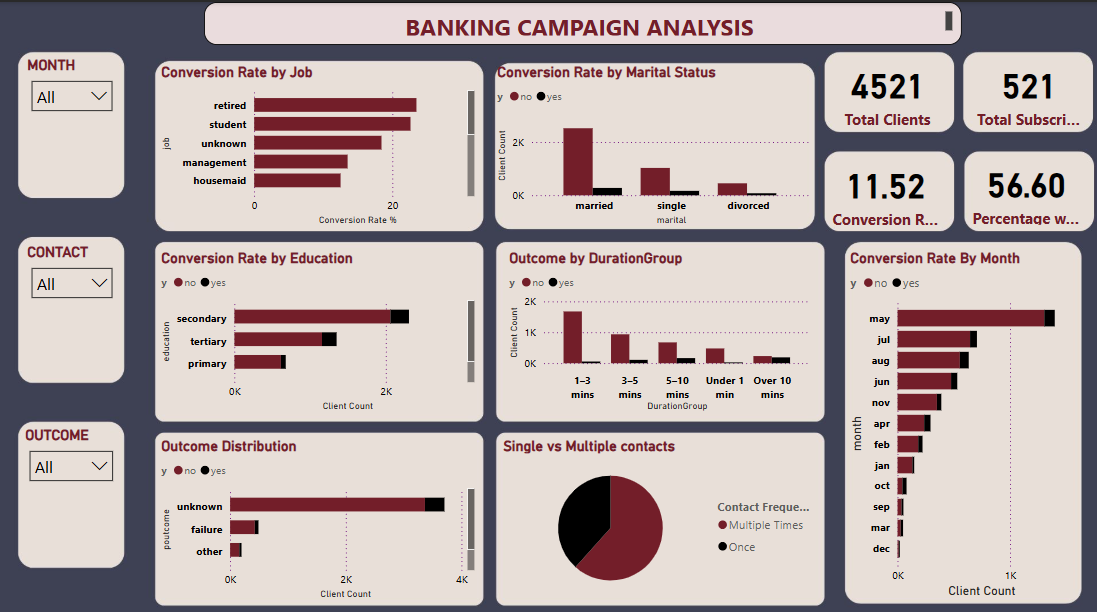

What the dashboard file says about the page in this screenshot:
{"tool":"powerbi","page":{"name":"Conversion","canvas":[1280,720],"ordinal":2},"visuals":[{"type":"card","fields":{"Values":["Banking_Campaign.Total Clients"]},"box":[965.2,60.4,133.6,90.6],"z":0},{"type":"card","fields":{"Values":["Banking_Campaign.Total Subscribed"]},"box":[1129,60.4,133.6,90.6],"z":1000},{"type":"card","fields":{"Values":["Banking_Campaign.Conversion Rate %"]},"box":[960.6,171.9,138.2,99.9],"z":2000},{"type":"card","fields":{"Values":["Banking_Campaign.Percentage with Housing Loan"]},"box":[1123.2,178.9,139.4,84.8],"z":3000},{"type":"barChart","title":"Conversion Rate By Month","fields":{"Y":["Banking_Campaign.Client Count"],"Category":["Banking_Campaign.month"],"Series":["Banking_Campaign.y"]},"box":[983.8,286.9,268.3,411.2],"z":4000},{"type":"barChart","title":"Conversion Rate by Job","fields":{"Y":["Banking_Campaign.Conversion Rate %"],"Category":["Banking_Campaign.job"]},"box":[182.4,70.9,374,192.8],"z":5000},{"type":"barChart","title":"Conversion Rate by Education","fields":{"Category":["Banking_Campaign.education"],"Y":["Banking_Campaign.Client Count"],"Series":["Banking_Campaign.y"]},"box":[182.4,286.9,374,192.8],"z":6000},{"type":"clusteredColumnChart","title":"Conversion Rate by Marital Status","fields":{"Category":["Banking_Campaign.marital"],"Series":["Banking_Campaign.y"],"Y":["Banking_Campaign.Client Count"]},"box":[572.6,70.9,374,192.8],"z":7000},{"type":"barChart","title":"Outcome Distribution","fields":{"Category":["Banking_Campaign.poutcome"],"Y":["Banking_Campaign.Client Count"],"Series":["Banking_Campaign.y"]},"box":[182.4,505.3,374,192.8],"z":8000},{"type":"clusteredColumnChart","title":"Outcome by DurationGroup","fields":{"Category":["Banking_Campaign.DurationGroup"],"Series":["Banking_Campaign.y"],"Y":["Banking_Campaign.Client Count"]},"box":[586.6,286.9,360.1,192.8],"z":9000},{"type":"pieChart","title":"Single vs Multiple contacts","fields":{"Category":["Banking_Campaign.Contact Frequency"],"Y":["Banking_Campaign.Client Count"]},"box":[579.6,505.3,374,192.8],"z":10000},{"type":"slicer","title":"MONTH","fields":{"Values":["Banking_Campaign.month"]},"box":[26.7,62.7,113.8,159.1],"z":11000},{"type":"slicer","title":"CONTACT","fields":{"Values":["Banking_Campaign.contact"]},"box":[26.8,280,114.3,159.9],"z":12000},{"type":"slicer","title":"OUTCOME","fields":{"Values":["Banking_Campaign.poutcome"]},"box":[24.5,492.4,116.7,158.7],"z":13000},{"type":"textbox","box":[236.9,0,880.9,50.2],"z":14000}]}

Visuals, with their boxes in screenshot pixels (x1, y1, x2, y2), scaled from the page's 1280x720 canvas onto the 1097x612 screenshot:
card - Banking_Campaign.Total Clients: crop(827, 51, 942, 128)
card - Banking_Campaign.Total Subscribed: crop(968, 51, 1082, 128)
card - Banking_Campaign.Conversion Rate %: crop(823, 146, 942, 231)
card - Banking_Campaign.Percentage with Housing Loan: crop(963, 152, 1082, 224)
"Conversion Rate By Month" barChart: crop(843, 244, 1073, 593)
"Conversion Rate by Job" barChart: crop(156, 60, 477, 224)
"Conversion Rate by Education" barChart: crop(156, 244, 477, 408)
"Conversion Rate by Marital Status" clusteredColumnChart: crop(491, 60, 811, 224)
"Outcome Distribution" barChart: crop(156, 430, 477, 593)
"Outcome by DurationGroup" clusteredColumnChart: crop(503, 244, 811, 408)
"Single vs Multiple contacts" pieChart: crop(497, 430, 817, 593)
"MONTH" slicer: crop(23, 53, 120, 189)
"CONTACT" slicer: crop(23, 238, 121, 374)
"OUTCOME" slicer: crop(21, 419, 121, 553)
textbox: crop(203, 0, 958, 43)
